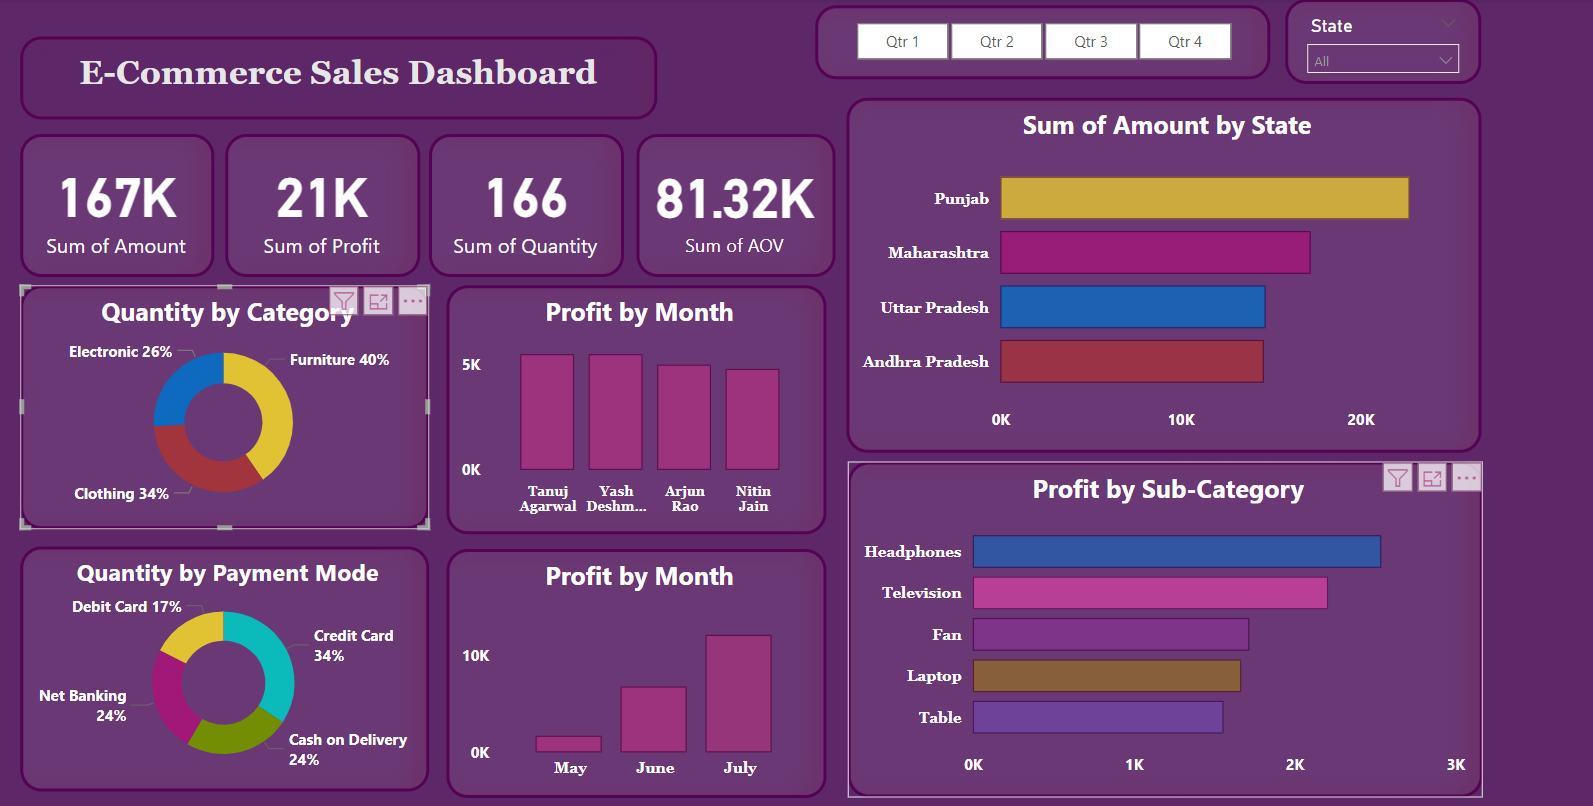

The dashboard page shown, as its layout file describes it:
{"tool":"powerbi","page":{"name":"Page 1","canvas":[1280,720],"ordinal":0},"visuals":[{"type":"textbox","box":[16.7,94.4,510,65.6],"z":0},{"type":"columnChart","title":"Profit by Month","fields":{"Category":["Order.Order Date.Variation.Date Hierarchy.Month"],"Y":["Details.Profit"]},"box":[357.8,504.4,304.4,198.9],"z":1000},{"type":"barChart","title":"Profit by Sub-Category","fields":{"Category":["Details.Sub-Category"],"Y":["Details.Profit"]},"box":[678.9,434.4,507.8,268.9],"z":2000},{"type":"donutChart","title":"Quantity by Category","fields":{"Y":["Details.Quantity"],"Category":["Details.Category"]},"box":[16.7,293.3,327.8,194.4],"z":3000},{"type":"donutChart","title":"Quantity by Payment Mode","fields":{"Y":["Details.Quantity"],"Category":["Details.Payment Mode"]},"box":[16.7,502.2,327.8,195.6],"z":4000},{"type":"card","fields":{"Values":["Details.Amount"]},"box":[16.7,172.2,155.6,113.3],"z":5000},{"type":"card","fields":{"Values":["Details.Profit"]},"box":[181.1,172.2,155.6,113.3],"z":6000},{"type":"card","fields":{"Values":["Details.Quantity"]},"box":[344.4,172.2,155.6,113.3],"z":7000},{"type":"card","fields":{"Values":["Details.Avarage order value"]},"box":[510,172.2,158.9,113.3],"z":8000},{"type":"barChart","title":"Sum of Amount by State","fields":{"Category":["Order.State"],"Y":["Details.Amount"]},"box":[677.8,143.3,507.8,283.3],"z":9000},{"type":"columnChart","title":"Profit by Month","fields":{"Category":["Order.Customer Name"],"Y":["Details.Amount"]},"box":[357.8,293.3,304.4,198.9],"z":10000},{"type":"slicer","fields":{"Values":["Order.Order Date.Variation.Date Hierarchy.Quarter"]},"box":[653.3,68.9,363.3,58.9],"z":11000},{"type":"slicer","fields":{"Values":["Order.State"]},"box":[1028.9,64.4,156.7,67.8],"z":12000}]}

Visuals, with their boxes on the page's 1280x720 design canvas (x1, y1, x2, y2). These are canvas units, not pixel positions in the 1593x806 screenshot, which may show the page scaled, cropped or inside an application window:
textbox: (x1=17, y1=94, x2=527, y2=160)
"Profit by Month" columnChart: (x1=358, y1=504, x2=662, y2=703)
"Profit by Sub-Category" barChart: (x1=679, y1=434, x2=1187, y2=703)
"Quantity by Category" donutChart: (x1=17, y1=293, x2=344, y2=488)
"Quantity by Payment Mode" donutChart: (x1=17, y1=502, x2=344, y2=698)
card - Details.Amount: (x1=17, y1=172, x2=172, y2=286)
card - Details.Profit: (x1=181, y1=172, x2=337, y2=286)
card - Details.Quantity: (x1=344, y1=172, x2=500, y2=286)
card - Details.Avarage order value: (x1=510, y1=172, x2=669, y2=286)
"Sum of Amount by State" barChart: (x1=678, y1=143, x2=1186, y2=427)
"Profit by Month" columnChart: (x1=358, y1=293, x2=662, y2=492)
slicer - Order.Order Date.Variation.Date Hierarchy.Quarter: (x1=653, y1=69, x2=1017, y2=128)
slicer - Order.State: (x1=1029, y1=64, x2=1186, y2=132)
